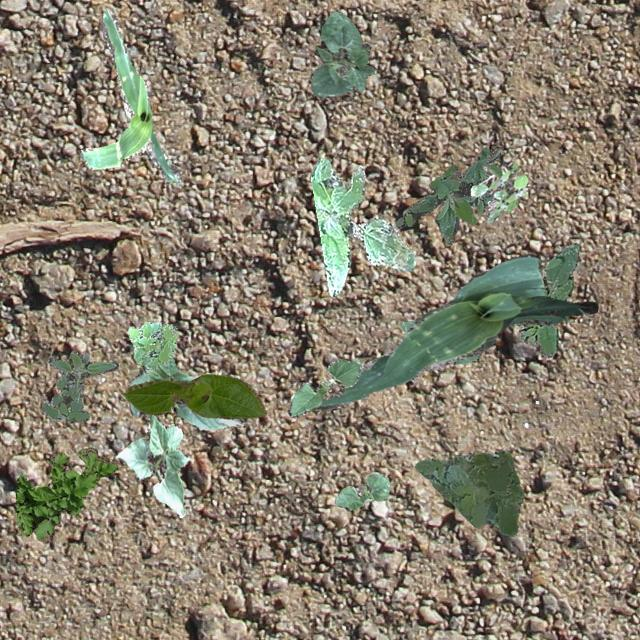crop: (316, 252, 598, 410), (78, 8, 180, 182), (128, 356, 242, 428), (116, 414, 190, 516), (122, 373, 266, 418), (311, 10, 374, 96), (288, 358, 360, 416), (400, 320, 480, 362), (334, 472, 389, 508)
weed: (310, 157, 414, 296), (394, 146, 500, 244), (15, 446, 116, 540), (413, 450, 522, 536), (515, 242, 579, 358), (41, 348, 118, 421), (470, 160, 528, 222), (128, 320, 178, 370)
